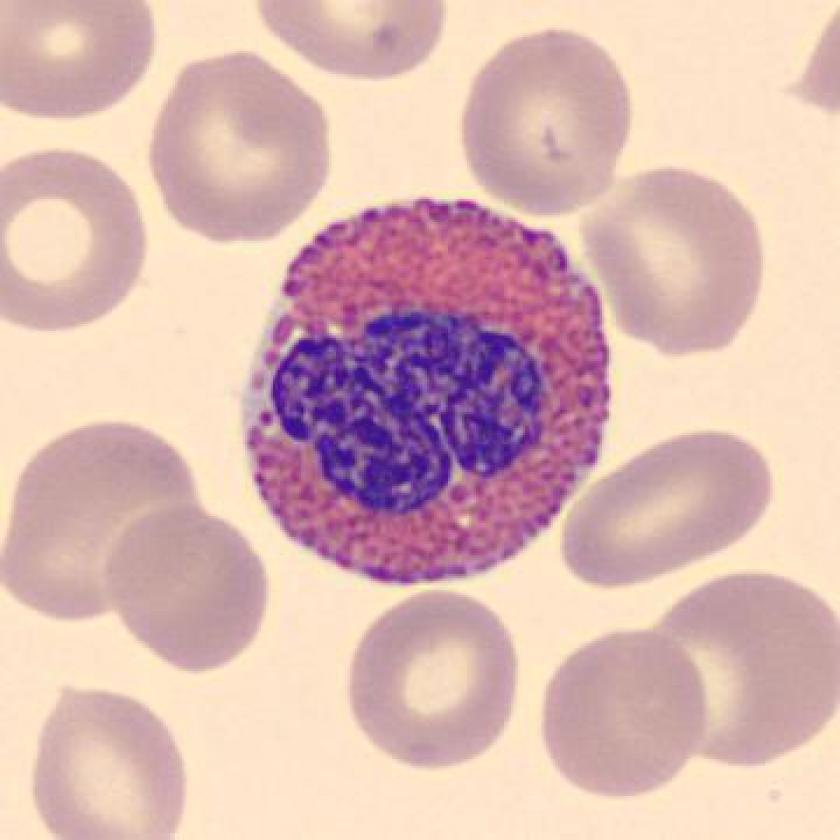eosinophil: (230, 182, 626, 594)
